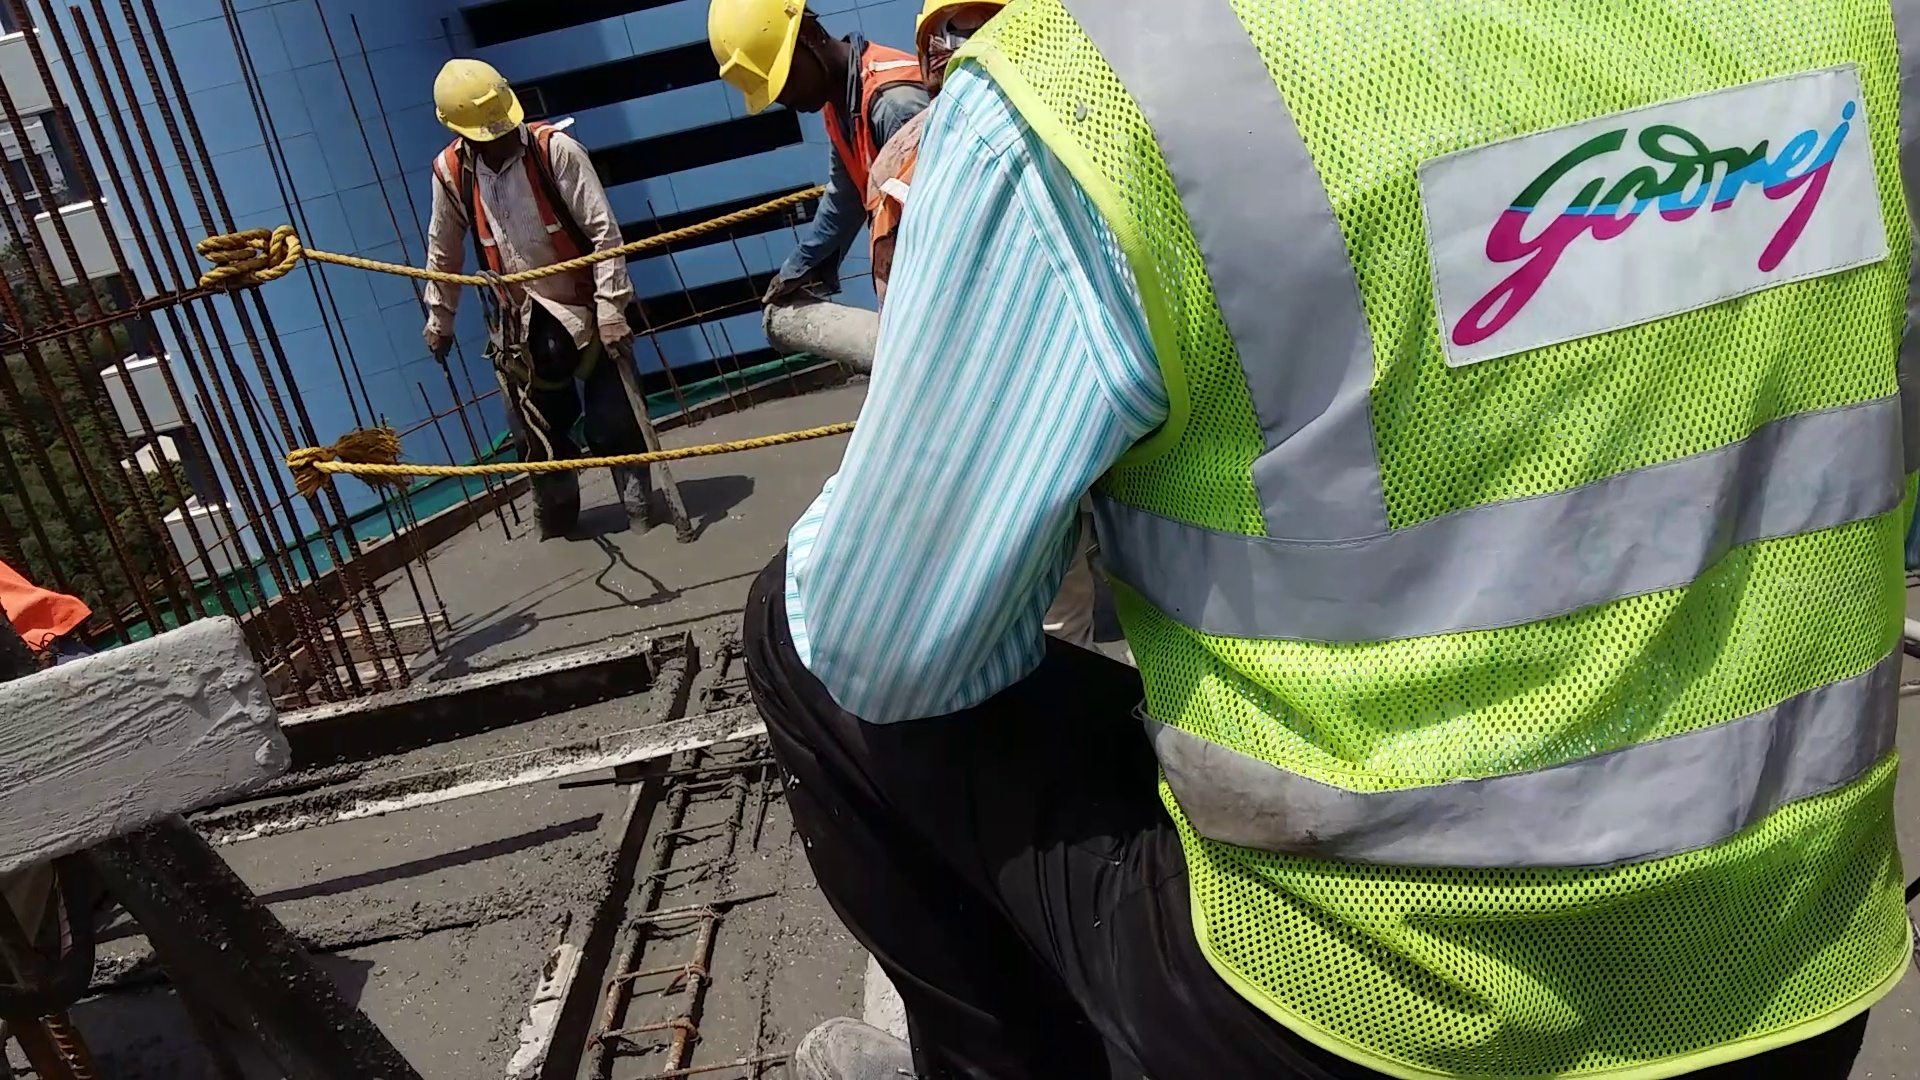SAFE: (433, 55, 572, 353)
